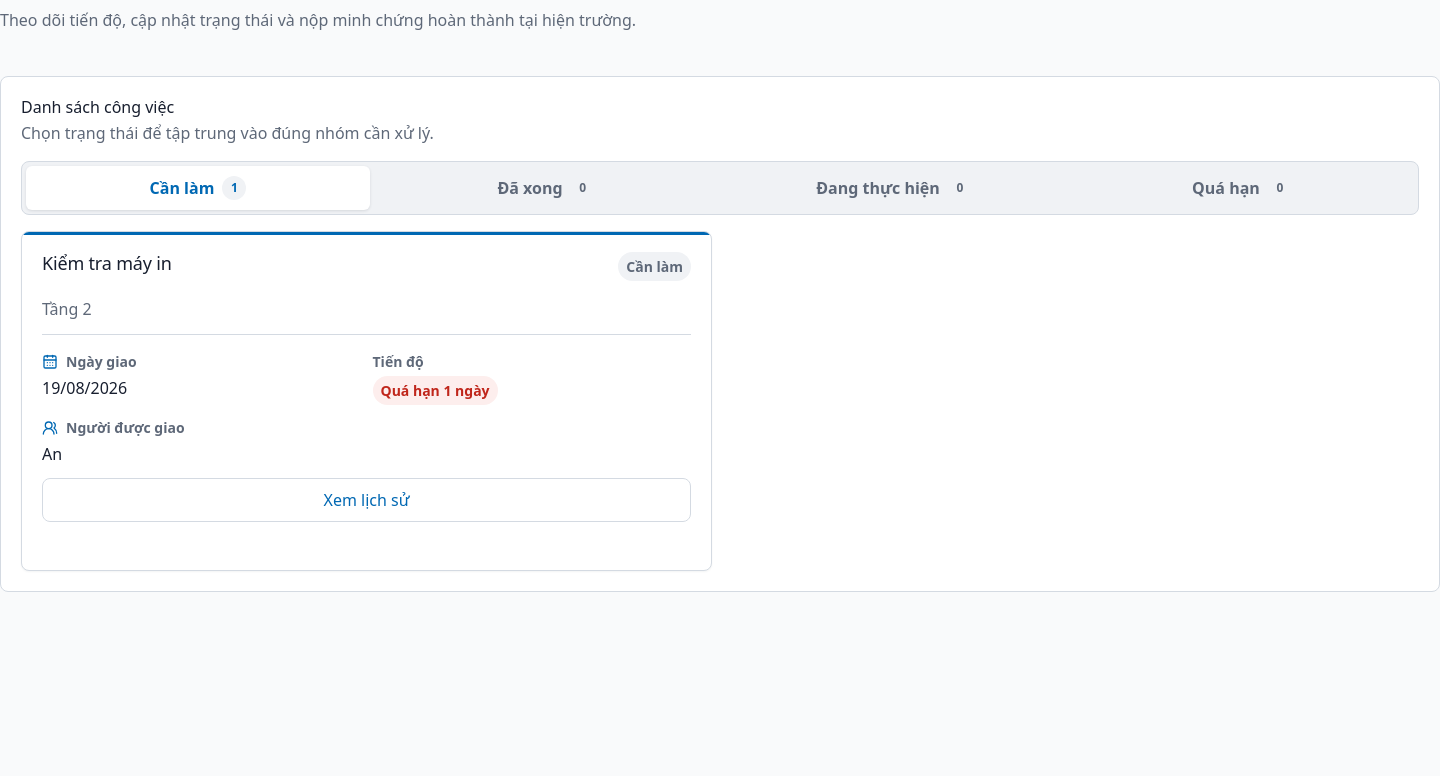
Test: Task evidence presentation › shows the Location-derived address and exact server Maps URL safely
What coordinates should you click on to do the following:
click the button "Xem lịch sử"
I would click on:
 (366, 500)
Its box is [42, 478, 691, 522].
(page scrolled)
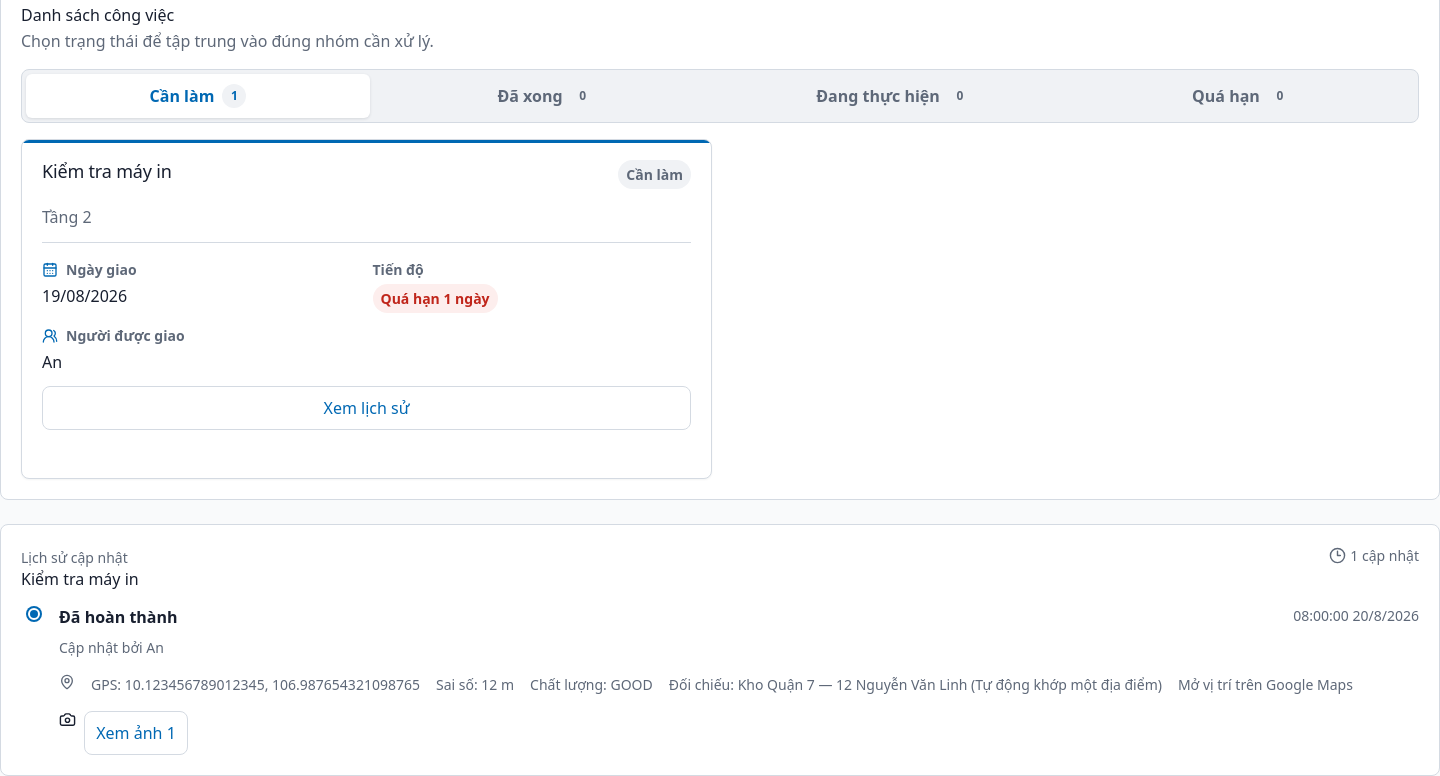
Expected: the text "Kho Quận 7 — 12 Nguyễn Văn Linh" is shown, [738, 675, 1162, 694]
